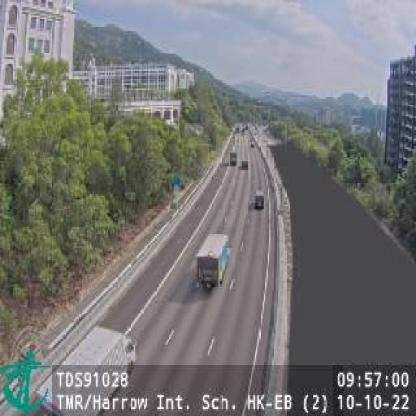Car: (254, 193, 266, 211)
Truck: (37, 327, 138, 414), (196, 231, 230, 290)
